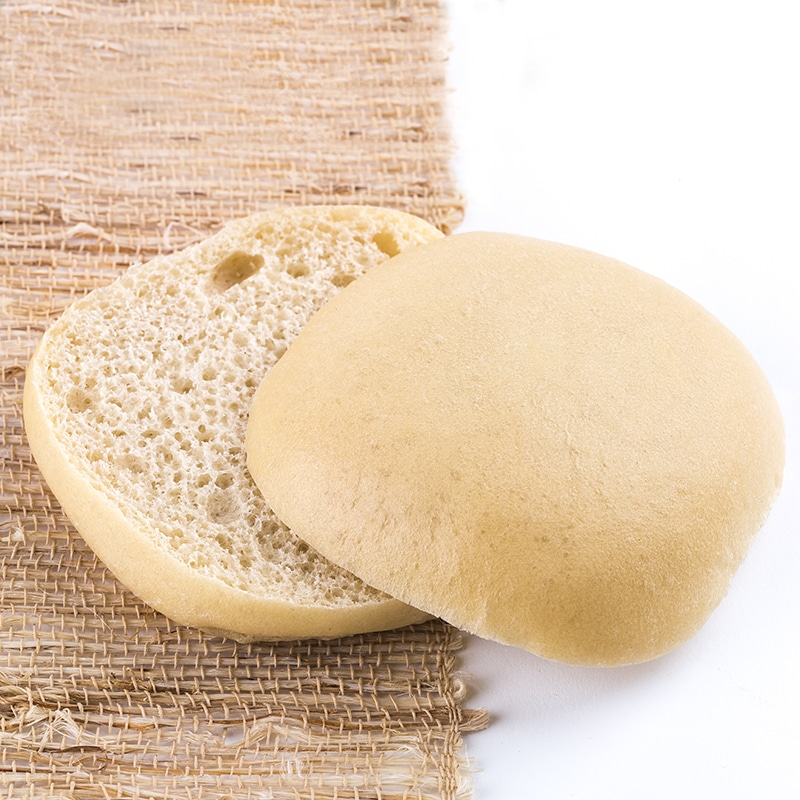hamburger_buns: (37, 207, 791, 704)
